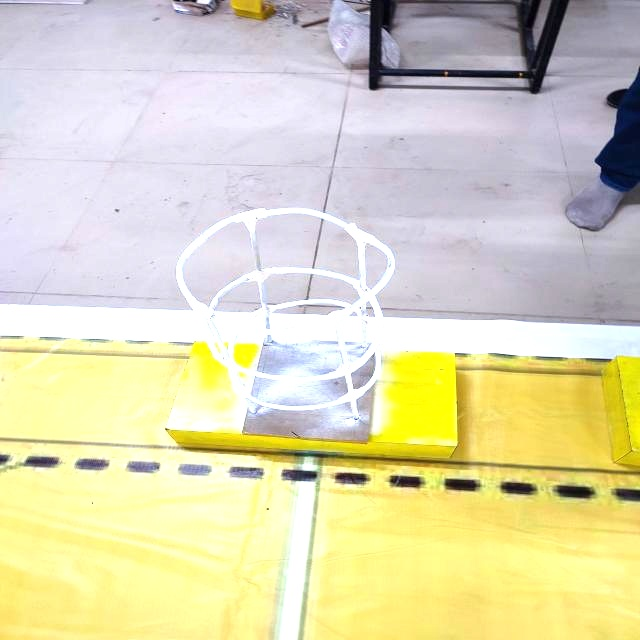silo: (154, 188, 410, 467)
